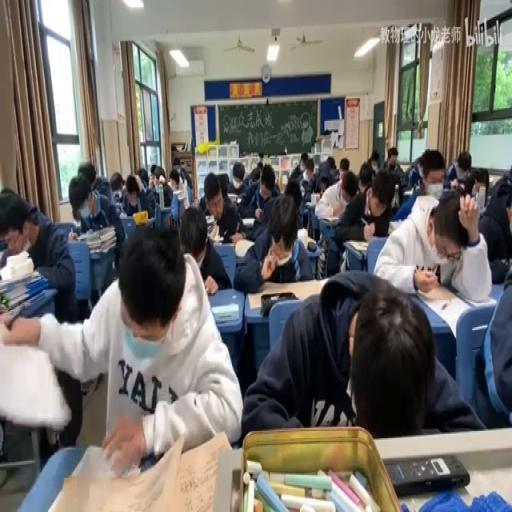calculator: (42, 430, 234, 510), (413, 282, 488, 337), (210, 302, 238, 322), (122, 214, 154, 228), (233, 236, 254, 256), (346, 239, 368, 253), (169, 185, 186, 202), (205, 216, 217, 236), (387, 219, 400, 235), (318, 215, 340, 223), (0, 246, 7, 267), (72, 219, 82, 233), (241, 216, 255, 225), (226, 192, 238, 202), (402, 186, 414, 196), (306, 198, 316, 206), (118, 210, 126, 218)
paper: (238, 270, 478, 437), (2, 185, 82, 461), (375, 184, 492, 302), (234, 189, 314, 292), (70, 168, 128, 289), (470, 255, 510, 428), (310, 165, 362, 272), (478, 171, 512, 270), (198, 172, 244, 243), (120, 171, 155, 219), (381, 145, 406, 203), (445, 149, 471, 188), (422, 149, 447, 189), (150, 168, 174, 209), (284, 179, 302, 215), (339, 172, 358, 202), (288, 152, 307, 181), (368, 212, 390, 237), (77, 161, 96, 189), (357, 164, 373, 192), (407, 154, 423, 182), (178, 162, 192, 188), (367, 149, 380, 175), (108, 171, 123, 192), (242, 164, 256, 186), (217, 172, 229, 194), (338, 158, 350, 176), (390, 184, 398, 208), (0, 186, 18, 196), (304, 162, 314, 179), (233, 171, 244, 186), (171, 155, 181, 169), (326, 155, 335, 169), (261, 151, 270, 165), (148, 174, 156, 188), (302, 175, 310, 186), (256, 160, 262, 174)
person: (384, 452, 470, 494), (260, 292, 296, 316), (307, 240, 318, 252)
